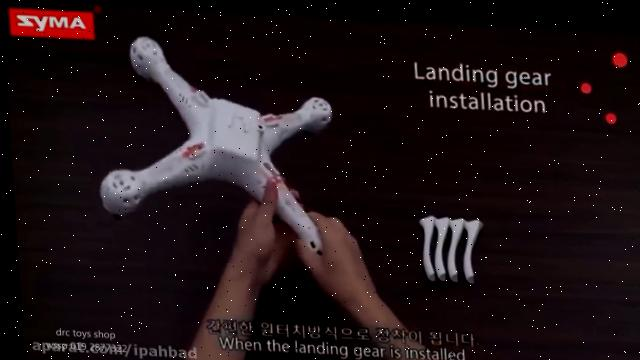drone: (86, 31, 343, 270)
